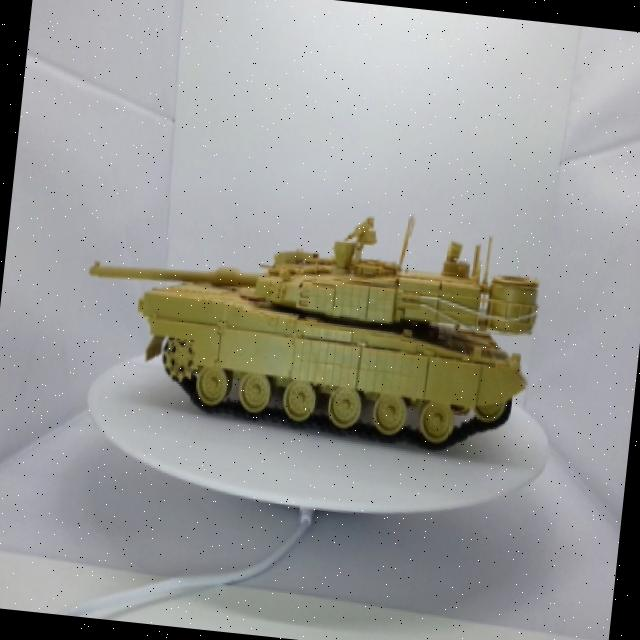korea tank: (58, 165, 556, 476)
